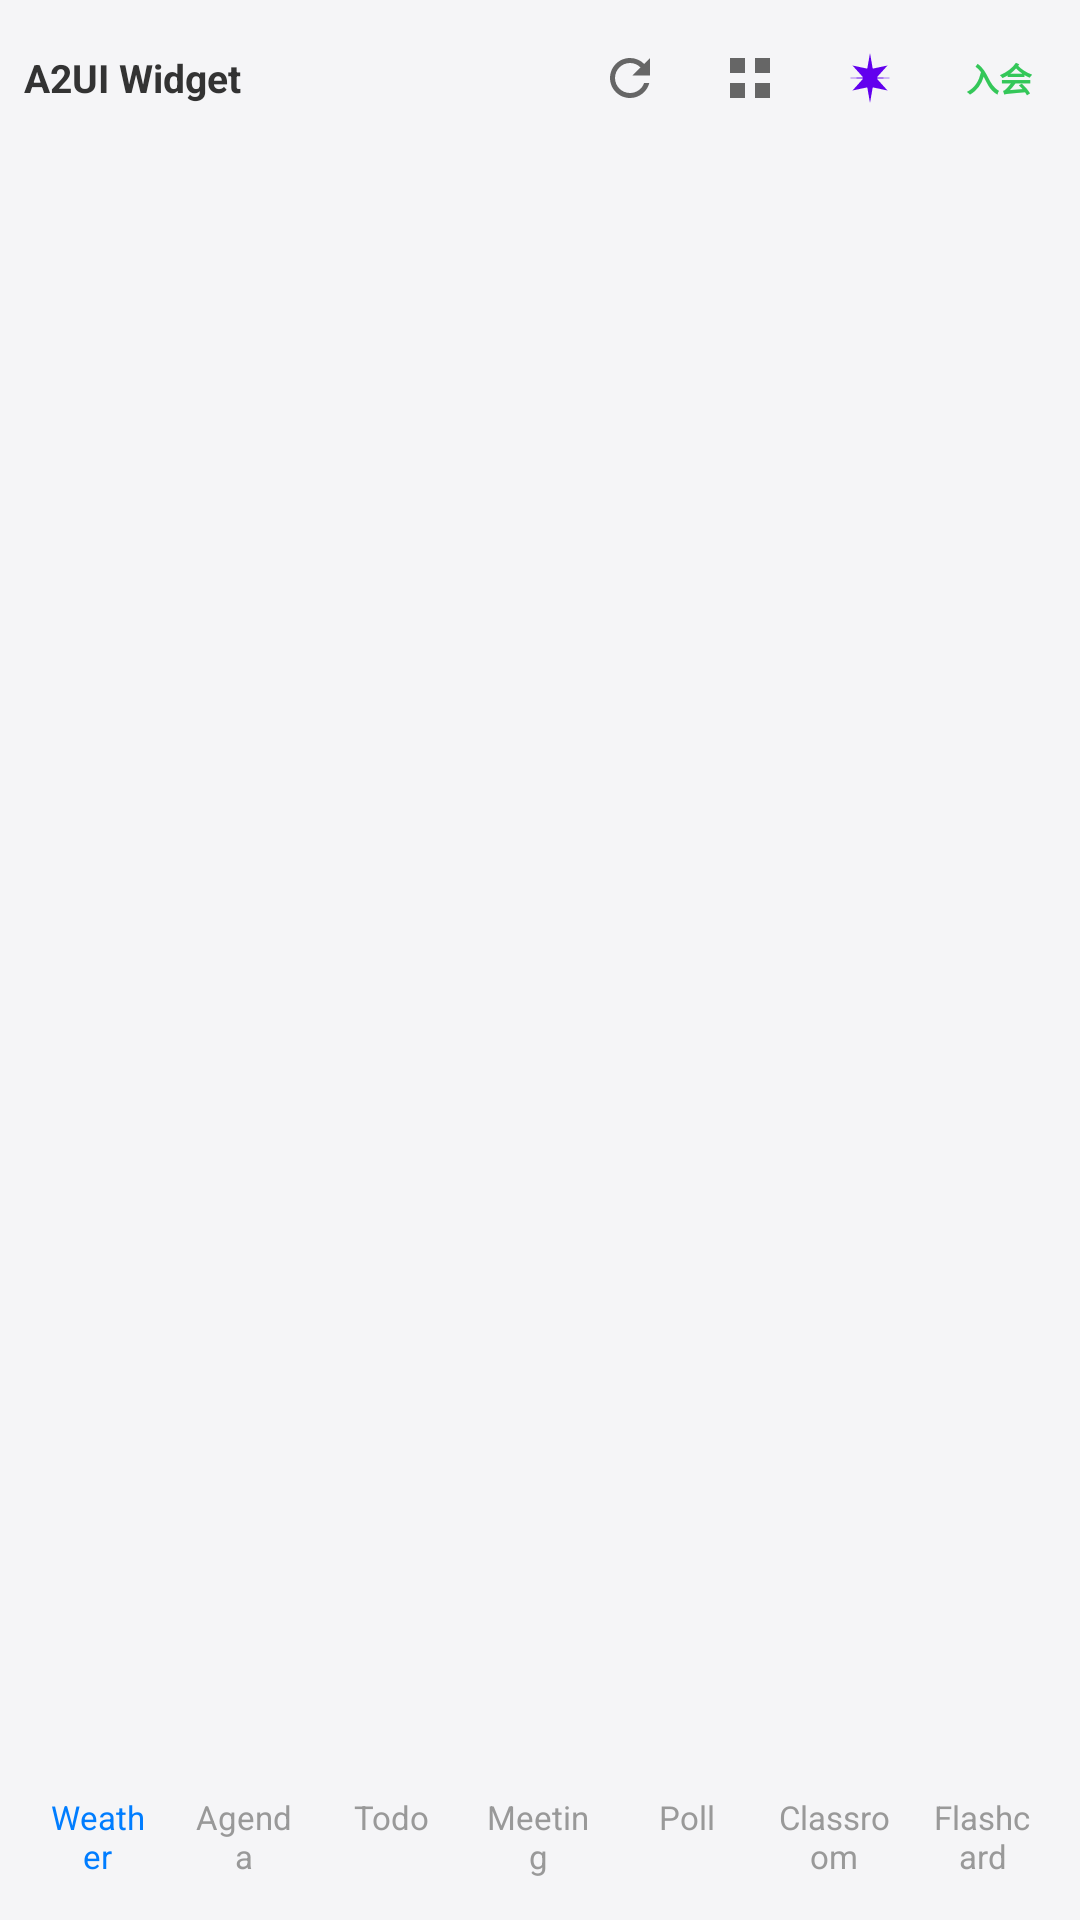

Icon bounding boxes for this 1080 × 1920 phone screenshot, format (x1, y1, x2, y2):
AI input: (850, 54, 890, 102)
Refresh: (610, 58, 650, 98)
Switch template: (730, 58, 770, 98)
